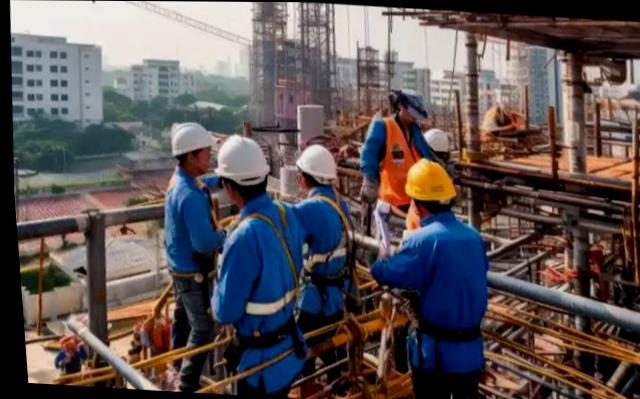helmet: (209, 131, 269, 180), (402, 160, 462, 200), (288, 145, 341, 184), (167, 122, 213, 153), (419, 121, 452, 153)
vest: (365, 102, 432, 203)
